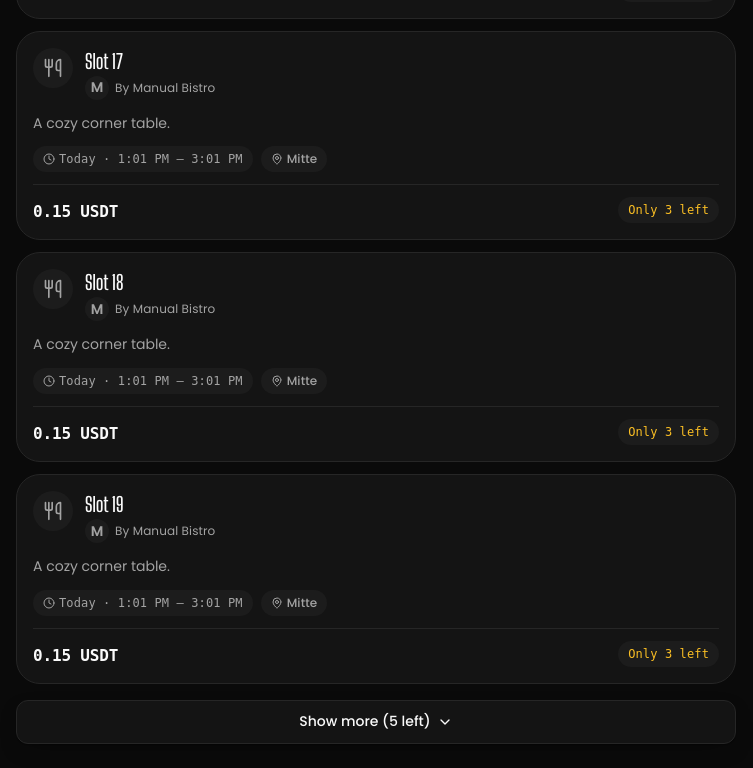
Test case: /openings full list › fetches 20 and pages with show-more
(page scrolled)
Click the button "Show more (5 left)" at [376, 722], box 16,700 -> 736,744
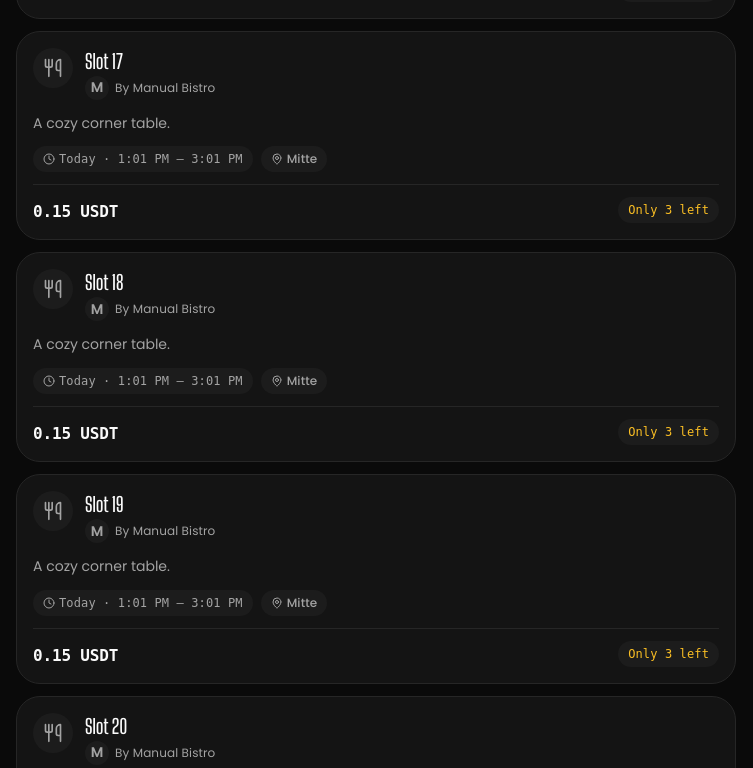
Check: the heading "Slot 20" is shown, box 85,714 -> 127,738
